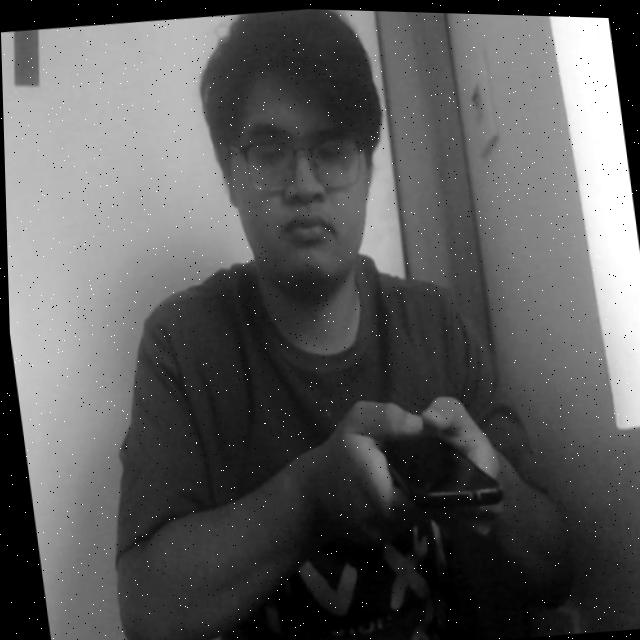phone: (344, 375, 519, 540)
